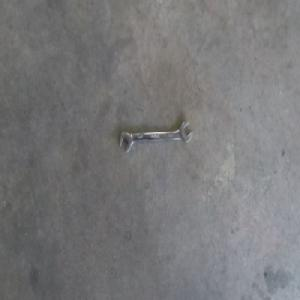Wrench: (119, 123, 193, 155)
